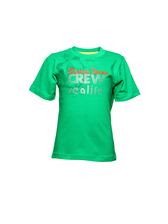clothoes: (28, 46, 145, 169)
